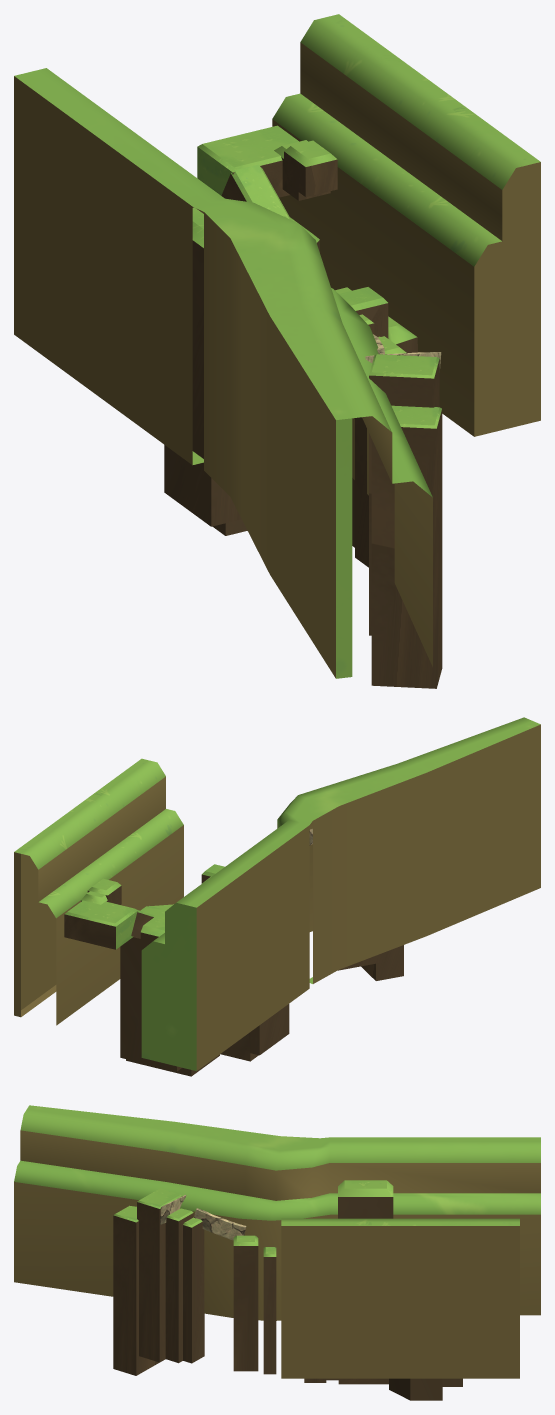
Rendered from parte2.fbx.
3 renders of one model, top to bottom at view 1: azimuth 30°, elevation 25°; view 2: azimuth 150°, elevation 25°; view 3: azimuth 270°, elevation 25°, orthographic. The views are drawn at different scales.
Visible parts, largest first — view 1: background, background2, polySurface91, cascada, polySurface88, polySurface57, polySurface79, polySurface58, polySurface61, polySurface55, polySurface89, polySurface92; view 2: background, background2, polySurface49, polySurface55, cascada, polySurface91, polySurface57, polySurface64; view 3: background, background2, polySurface91, polySurface88, polySurface79, polySurface82, polySurface85, cascada, polySurface76, polySurface52, piedra, polySurface89.
Boxes of the visible parts, x1,y1,x2,y2 form: background: (14,68,432,678); background2: (272,14,540,436); polySurface91: (371,409,442,688); cascada: (164,207,241,526); polySurface88: (369,359,439,635); polySurface57: (203,125,298,167); polySurface79: (355,417,368,567); polySurface58: (221,164,289,218); polySurface61: (284,151,337,196); polySurface55: (197,147,289,197); polySurface89: (372,354,436,375); polySurface92: (391,405,439,425); background: (141,717,540,1071); background2: (14,758,183,1025); polySurface49: (120,932,181,1071); polySurface55: (64,910,138,949); cascada: (250,1004,289,1055); polySurface91: (361,945,403,980); polySurface57: (67,900,134,923); polySurface64: (220,1032,258,1061); background: (14,1105,540,1320); background2: (281,1218,519,1378); polySurface91: (113,1215,159,1375); polySurface88: (137,1196,182,1362); polySurface79: (233,1246,258,1371); polySurface82: (183,1222,204,1363); polySurface85: (165,1213,193,1363); cascada: (338,1180,393,1218); polySurface76: (263,1257,276,1374); polySurface52: (389,1378,442,1400); piedra: (194,1208,246,1240); polySurface89: (139,1188,180,1206).
Size of the model in its own units: 27196 by 22529 by 50252.
1 material, 1 textured.
